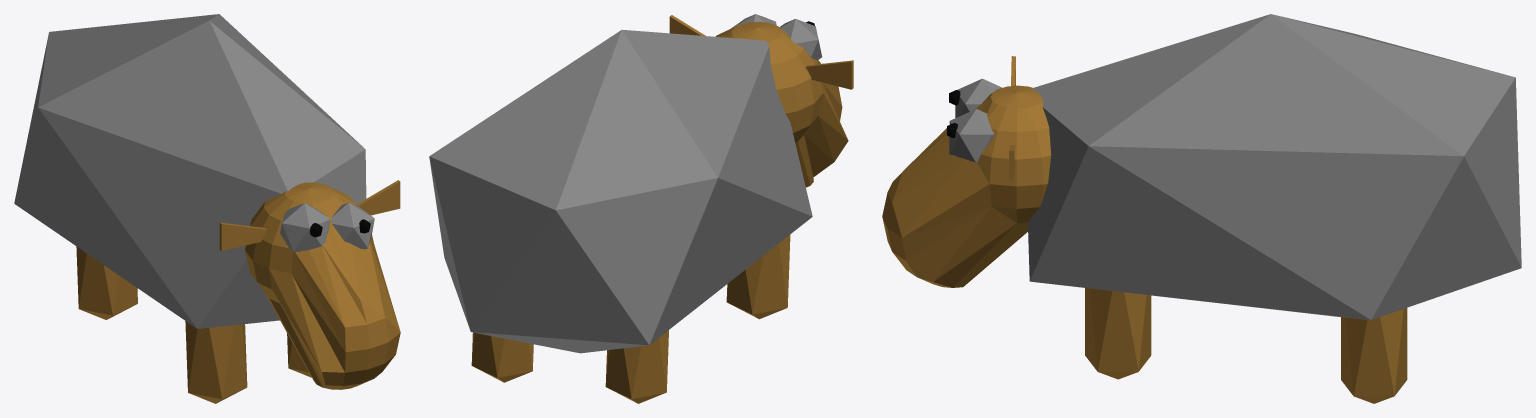
Rendered from sheep.obj.
3 renders of one model, left to right at view 1: azimuth 30°, elevation 25°; view 2: azimuth 150°, elevation 25°; view 3: azimuth 270°, elevation 25°, orthographic. The views are drawn at different scales.
Parts seen in each view (by area): view 1: Body, Head, FrontRightLeg, BackRightLef_BackRightLeg, FrontLeftLeg; view 2: Body, Head, FrontRightLeg, BackRightLef_BackRightLeg, BackLeftLeg; view 3: Body, Head, BackLeftLeg, FrontLeftLeg.
Boxes of the visible parts, x1,y1,x2,y2 form: Body: [14, 14, 366, 328]; Head: [219, 180, 400, 389]; FrontRightLeg: [185, 321, 247, 403]; BackRightLef_BackRightLeg: [76, 246, 137, 319]; FrontLeftLeg: [287, 333, 311, 377]; Body: [429, 29, 812, 353]; Head: [669, 14, 853, 187]; FrontRightLeg: [726, 235, 790, 319]; BackRightLef_BackRightLeg: [605, 330, 668, 403]; BackLeftLeg: [471, 332, 533, 382]; Body: [1028, 14, 1521, 319]; Head: [882, 56, 1051, 287]; BackLeftLeg: [1341, 308, 1407, 403]; FrontLeftLeg: [1085, 288, 1151, 379].
Bounding box in the file's own units: 2.2 × 2.64 × 4.32.
